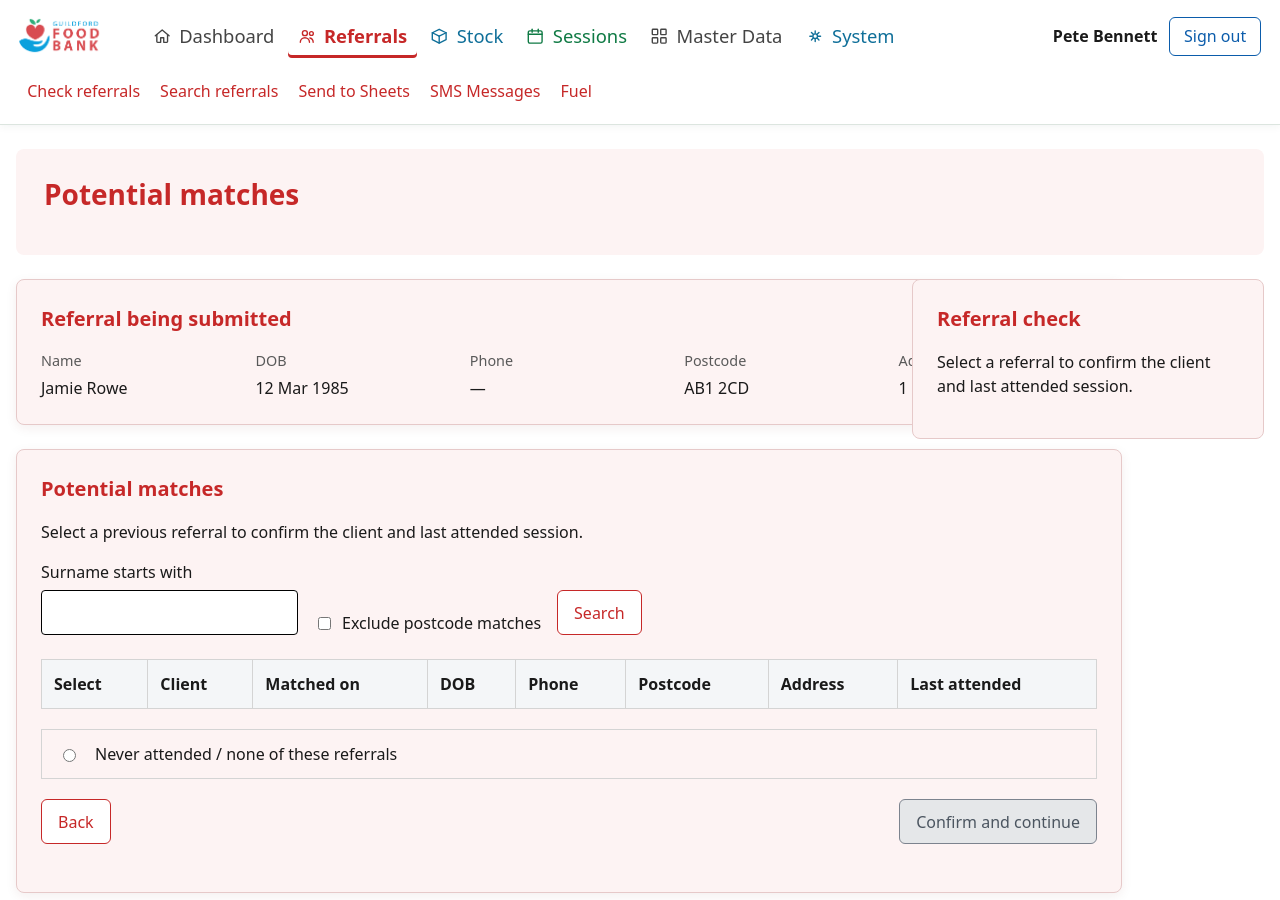
Test: the admin referral detail screen › returns to the referral list when Back leaves a mandatory previous-attendance decision
What coordinates should you click on to do the following:
click the link "Back"
I would click on:
 (76, 822)
Its box is [41, 799, 111, 844].
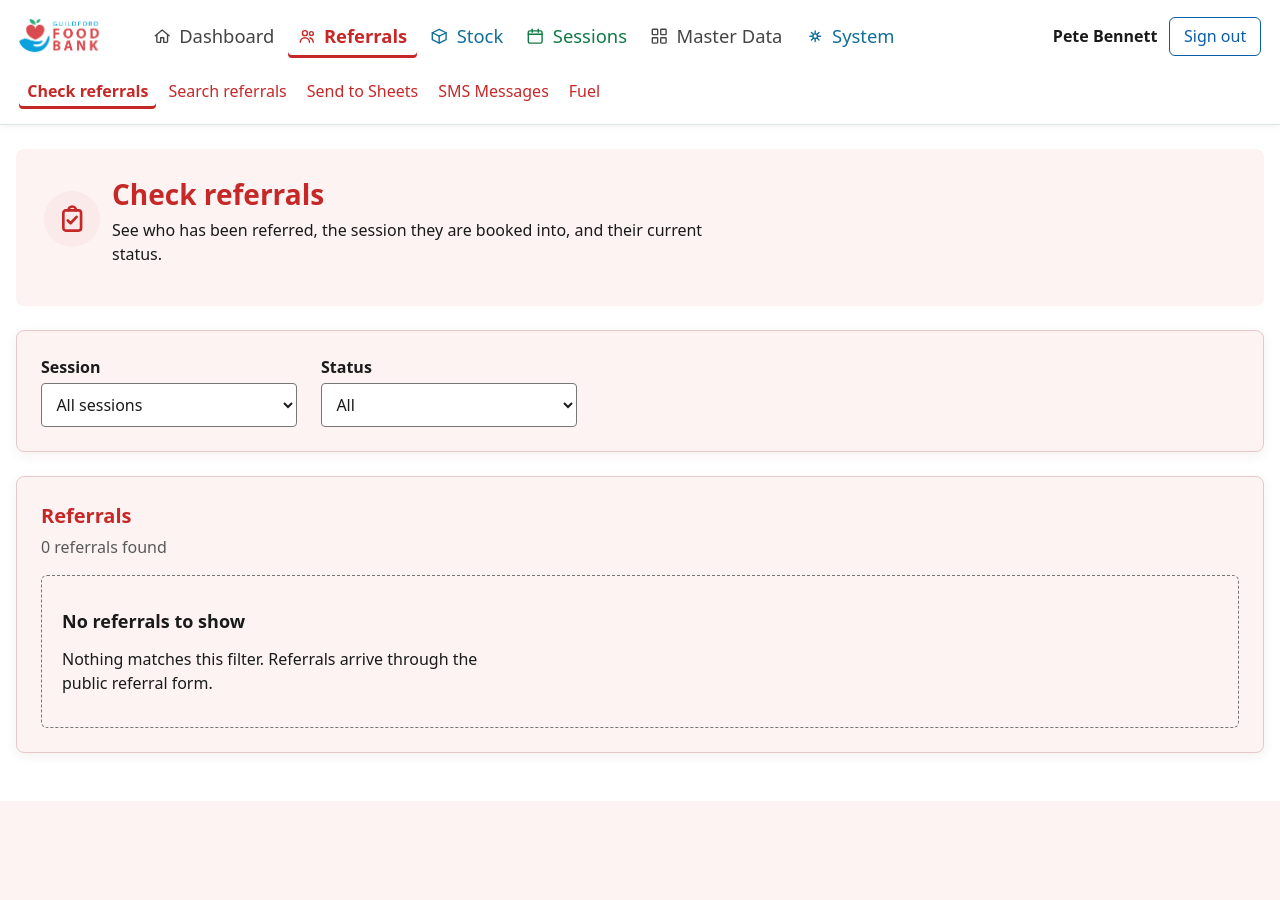
Expected: the heading "Check referrals" is shown, [112, 175, 324, 213]
Expected: the heading "Potential matches" is gone
